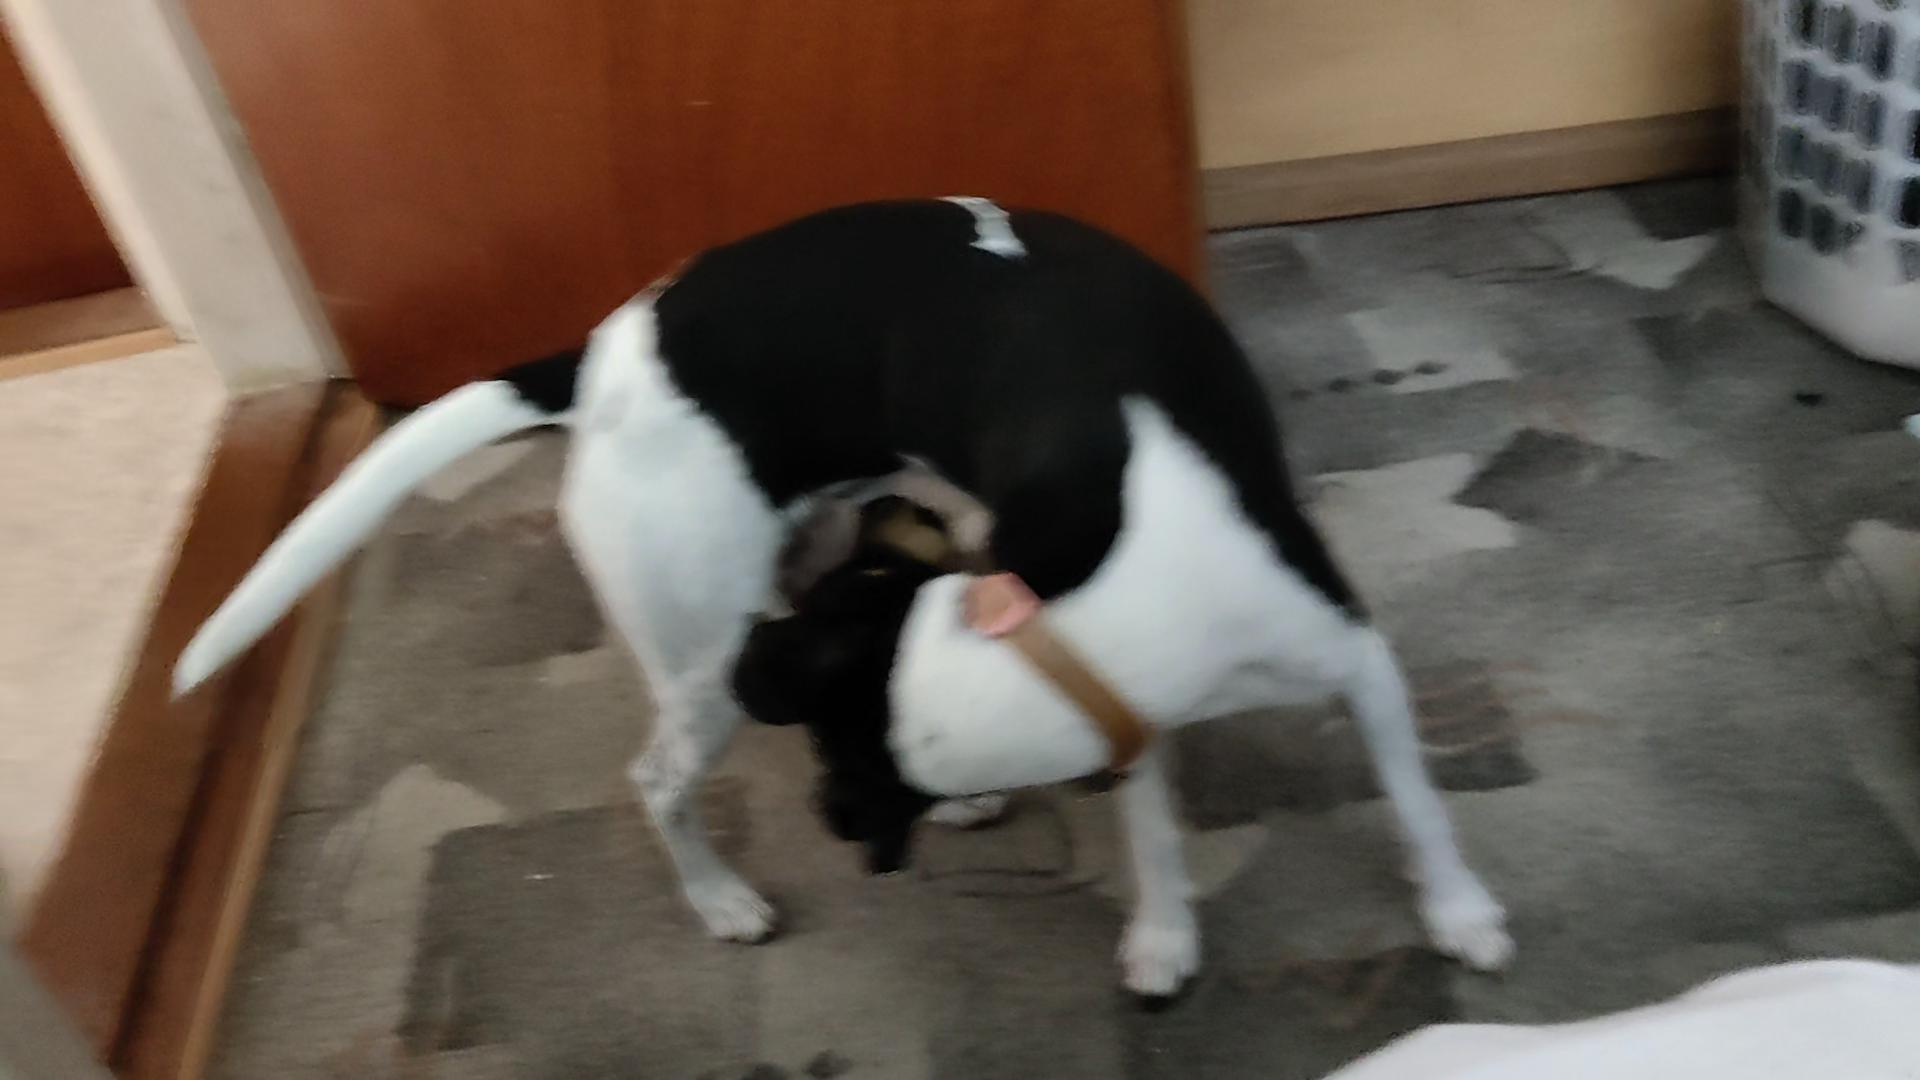Dog: (152, 183, 1538, 1011)
